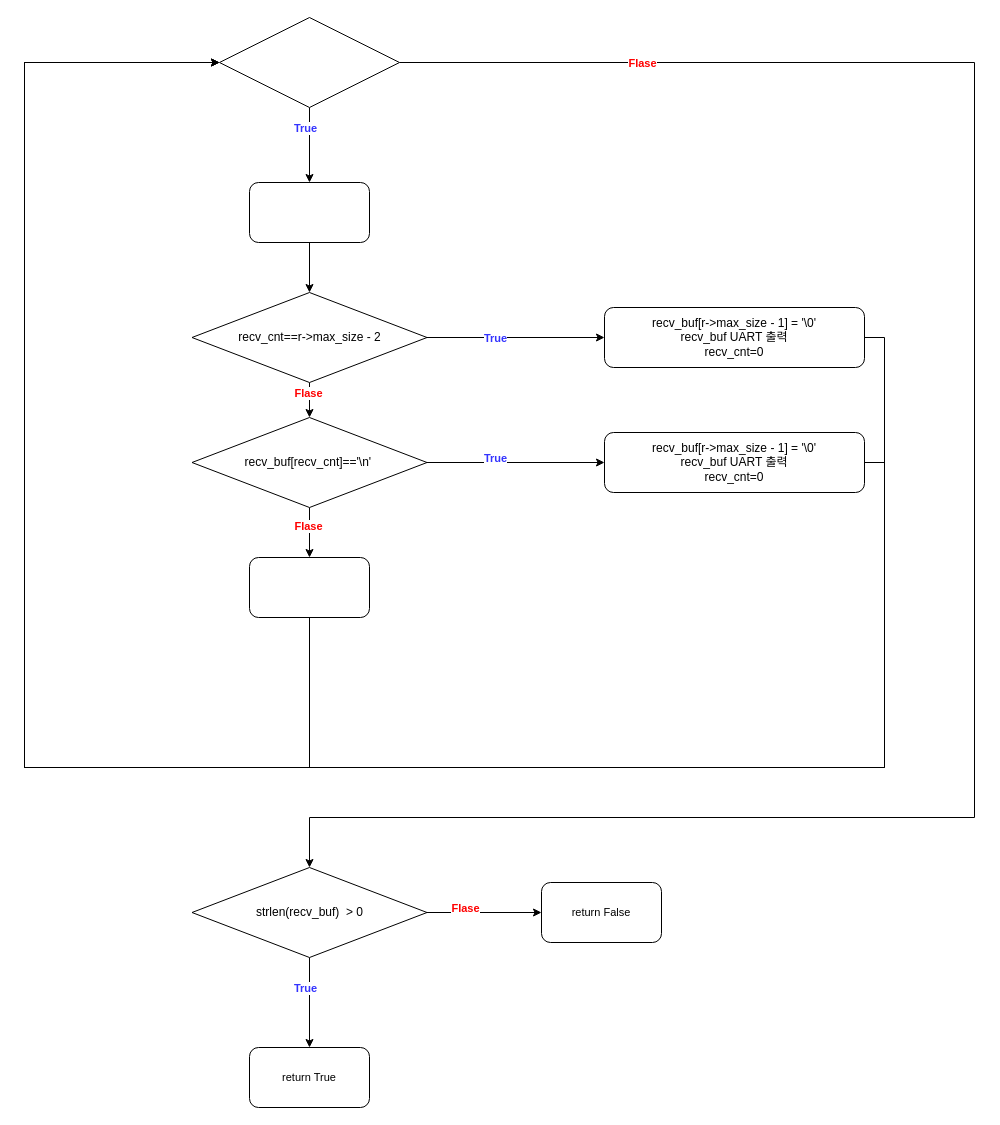
Image size: 1000x1125. Some labels were removed from this diagram. Here are the shapes that lost their labels. From the top down, the centre of each, then its label:
At (x=309, y=62): "while (r->rear != r->front)".
At (x=309, y=212): "'dequeue_ring(r)' recv_buf 에 저장".
At (x=309, y=587): "recv_cnt++".
